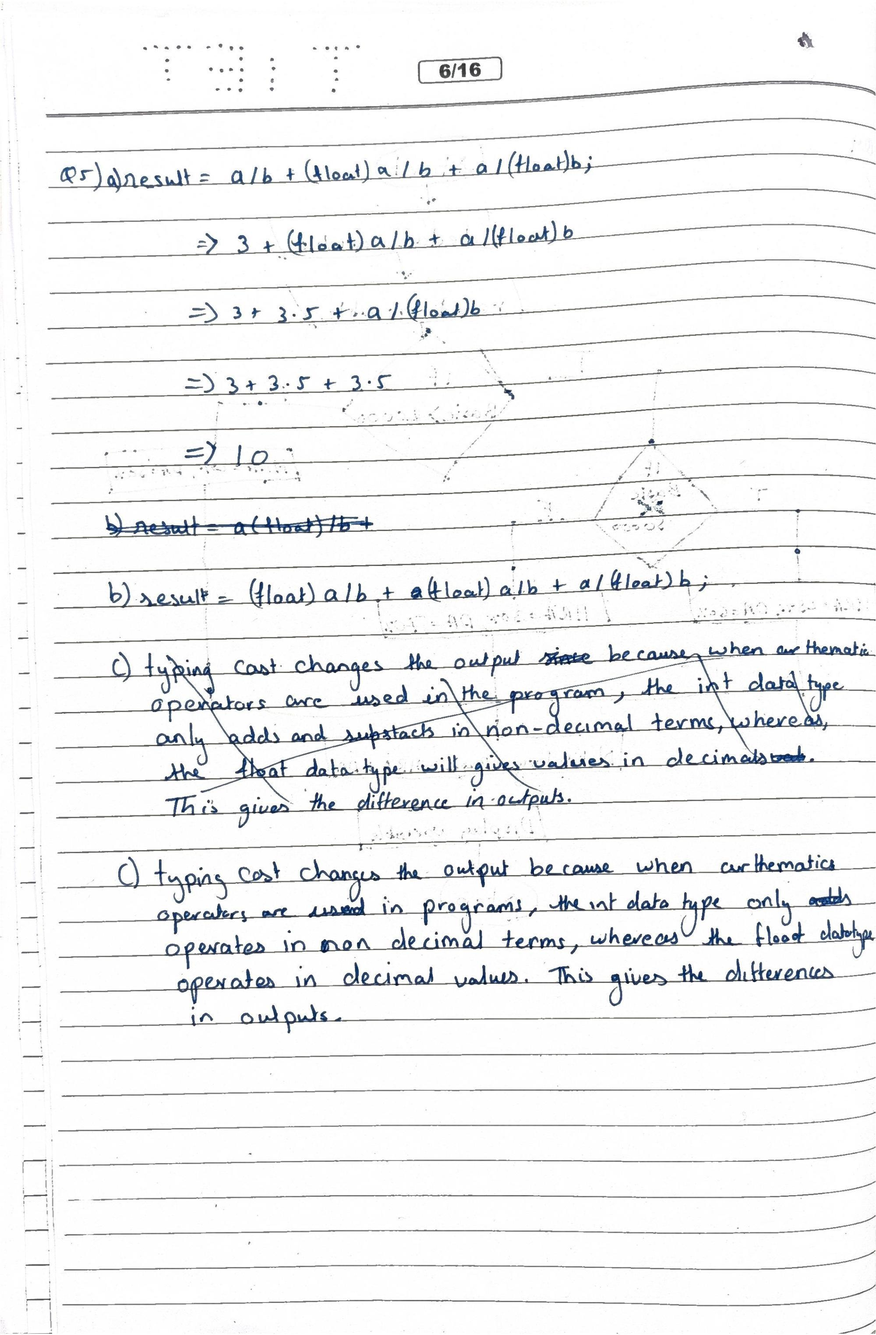cuttings: (107, 637, 874, 833), (104, 511, 376, 540), (807, 883, 854, 908), (410, 586, 424, 599)
